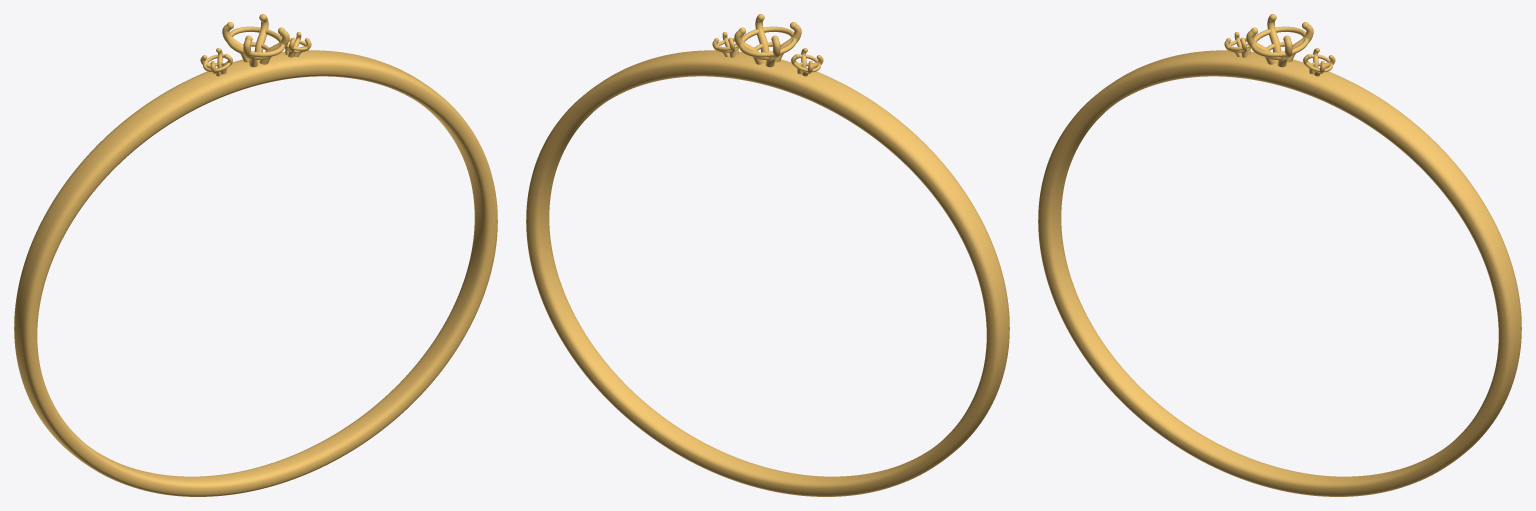
Rendered from Bracelet_Bangle.glb.
3 renders of one model, left to right at view 1: azimuth 30°, elevation 25°; view 2: azimuth 150°, elevation 25°; view 3: azimuth 330°, elevation 25°, orthographic.
Visible parts, largest first — view 1: Band, Head_Center, Head_SideR; view 2: Band, Head_Center, Head_SideR; view 3: Band, Head_Center, Head_SideL.
Part boxes in pixels (x1,y1,x2,y2): Band: (14,50,497,496); Head_Center: (222,14,289,67); Head_SideR: (200,48,232,76); Band: (526,50,1009,496); Head_Center: (734,14,801,67); Head_SideR: (791,48,823,76); Band: (1038,50,1521,496); Head_Center: (1246,14,1313,67); Head_SideL: (1303,48,1335,76).
Bounding box in the file's own units: 0.0661 × 0.0613 × 0.00831.
